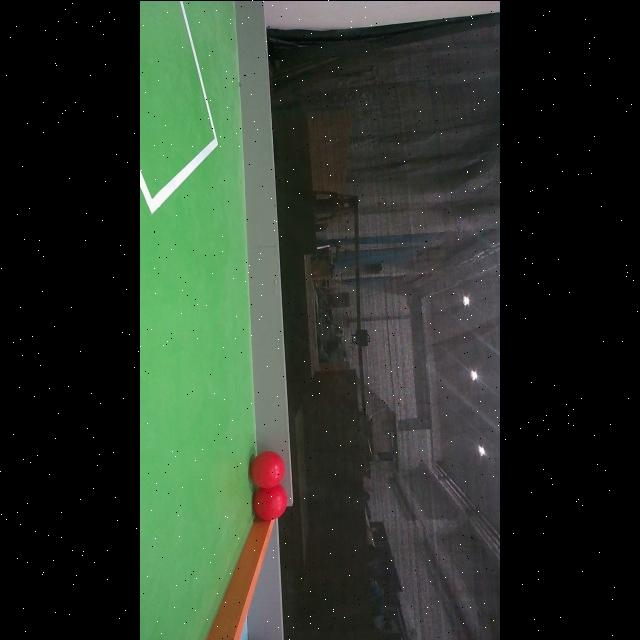R: (252, 482, 288, 520), (250, 450, 284, 488)
